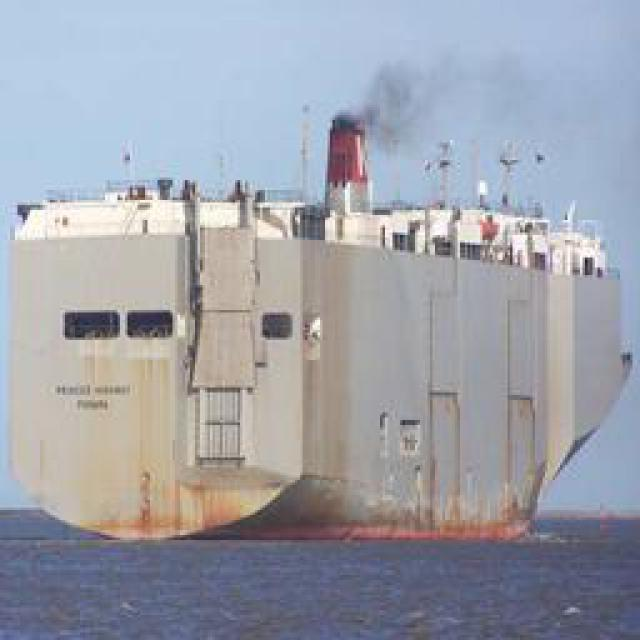Ship: (6, 98, 640, 549)
